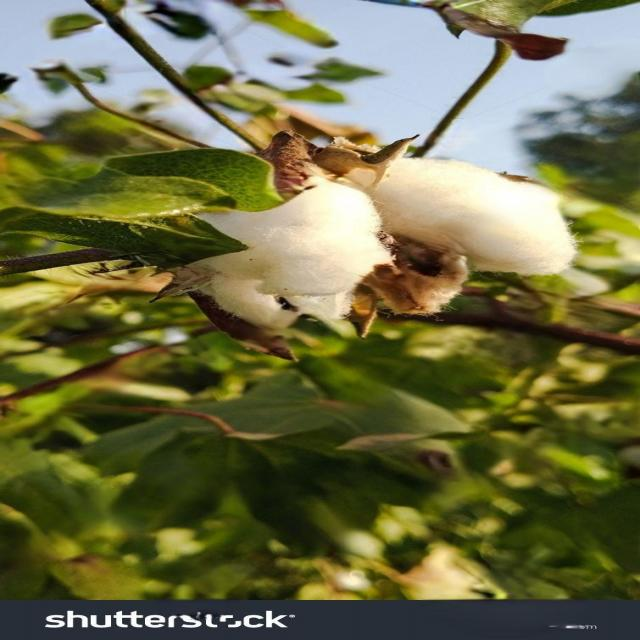Leaf: (141, 97, 625, 345)
